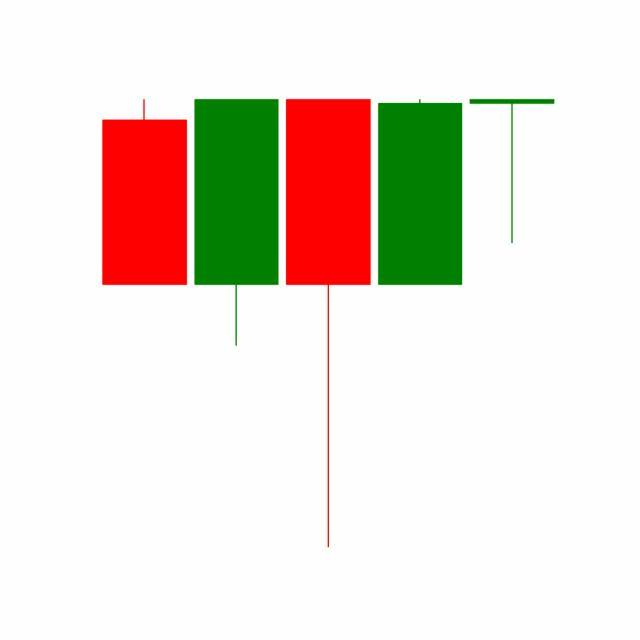Hammer: (466, 98, 559, 246)
